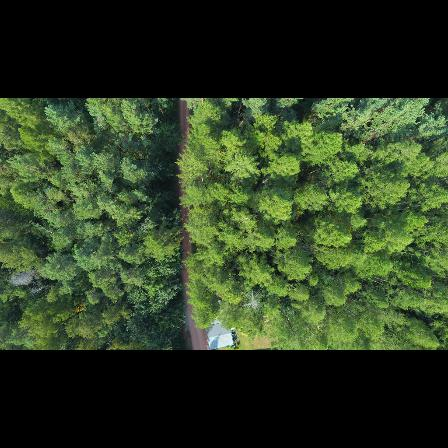Dead: (240, 289, 264, 315), (8, 268, 39, 287), (30, 284, 48, 298)
